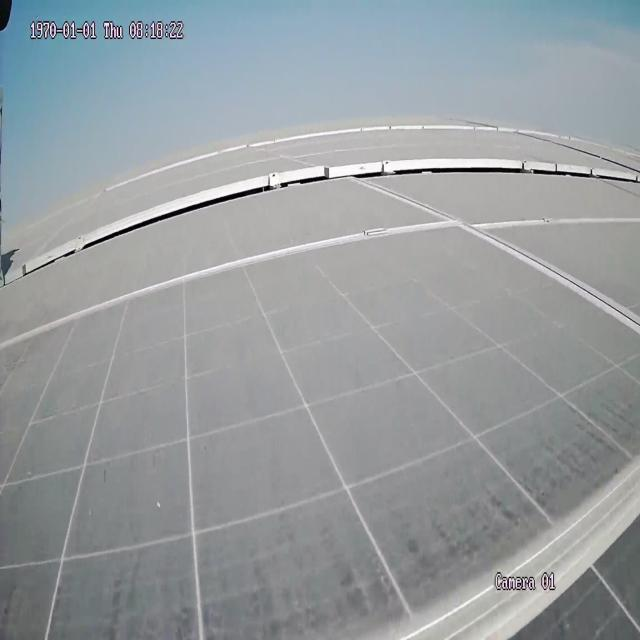interior panel: (2, 179, 639, 358), (390, 454, 640, 640)
